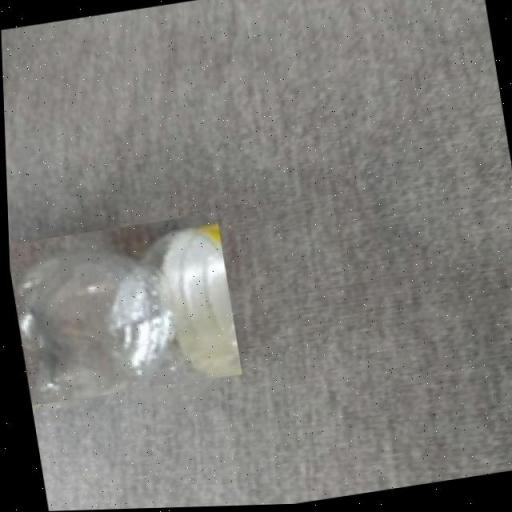plastic: (6, 214, 240, 407)
